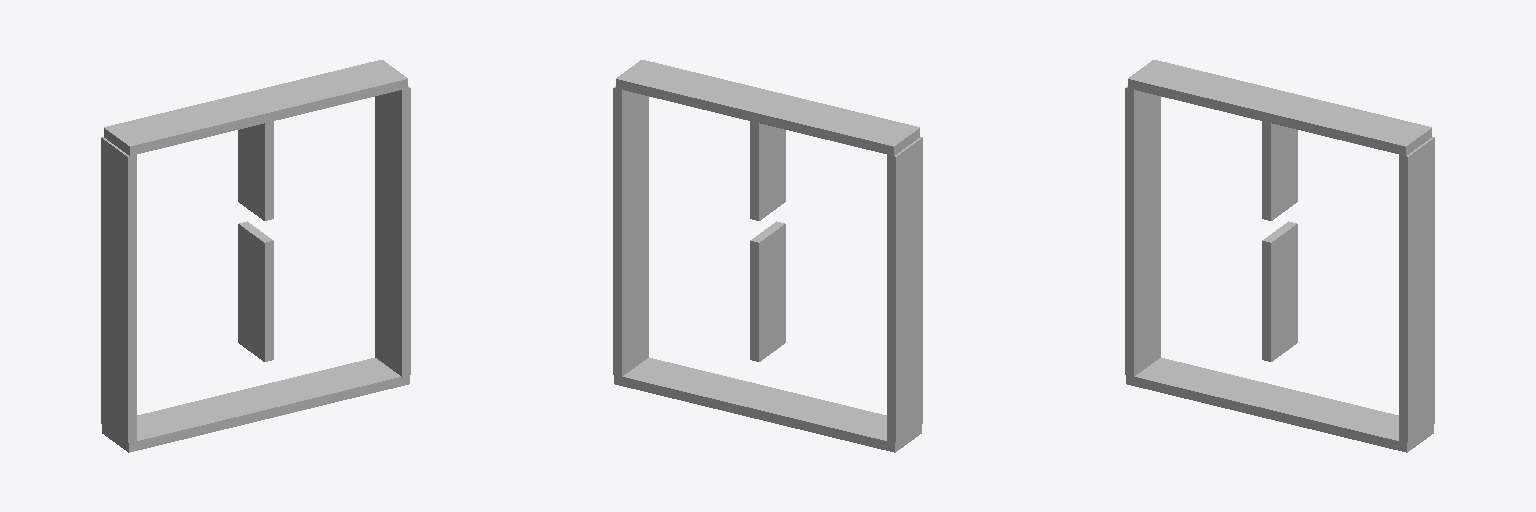
The model's file is ddr_env3.obj.
3 views of the same model, side by side, from view 1: azimuth 30°, elevation 25°; view 2: azimuth 150°, elevation 25°; view 3: azimuth 330°, elevation 25° (orthographic).
Parts seen in each view (by area): view 1: Cube.002_Cube.003, Cube_Cube.001, Cube.001_Cube.002, Cube.004_Cube.005, Cube.005_Cube.006, Cube.003_Cube.014; view 2: Cube.002_Cube.003, Cube_Cube.001, Cube.001_Cube.002, Cube.004_Cube.005, Cube.005_Cube.006, Cube.003_Cube.014; view 3: Cube.001_Cube.002, Cube_Cube.001, Cube.002_Cube.003, Cube.004_Cube.005, Cube.005_Cube.006, Cube.003_Cube.014.
Part boxes in pixels (x1,y1,x2,y2): Cube.002_Cube.003: (101, 137, 136, 443); Cube_Cube.001: (104, 60, 407, 155); Cube.001_Cube.002: (375, 86, 410, 376); Cube.004_Cube.005: (102, 358, 409, 452); Cube.005_Cube.006: (238, 221, 273, 361); Cube.003_Cube.014: (238, 121, 273, 220); Cube.002_Cube.003: (887, 137, 922, 443); Cube_Cube.001: (616, 60, 919, 155); Cube.001_Cube.002: (613, 86, 648, 376); Cube.004_Cube.005: (614, 358, 921, 452); Cube.005_Cube.006: (750, 221, 785, 361); Cube.003_Cube.014: (750, 121, 785, 220); Cube.001_Cube.002: (1399, 137, 1434, 443); Cube_Cube.001: (1128, 60, 1431, 155); Cube.002_Cube.003: (1125, 86, 1160, 376); Cube.004_Cube.005: (1126, 358, 1433, 452); Cube.005_Cube.006: (1262, 221, 1297, 361); Cube.003_Cube.014: (1262, 121, 1297, 220).
Size of the model in its own units: 6.2 by 6.4 by 1.